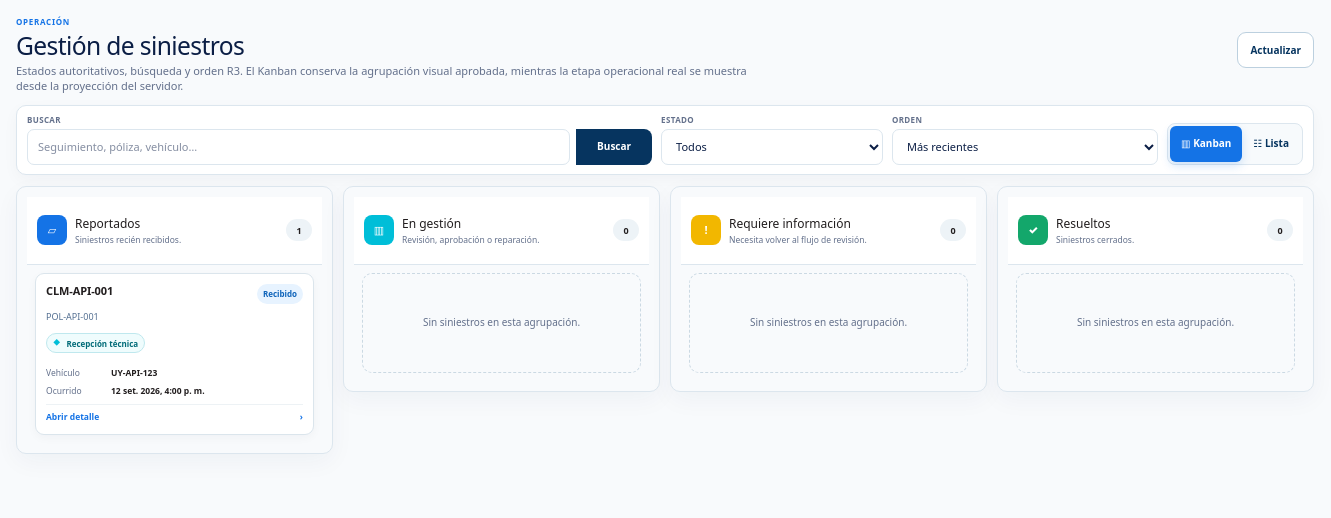
Test: OperatorClaimsPage R3 workspace › sends submitted search text to the API instead of filtering business records locally
Expected: the text "CLM-API-001" is shown, [46, 284, 113, 298]
Type "POL-API-001" into the search field labelled "Buscar" at coordinates (299, 147), box [27, 129, 570, 165]
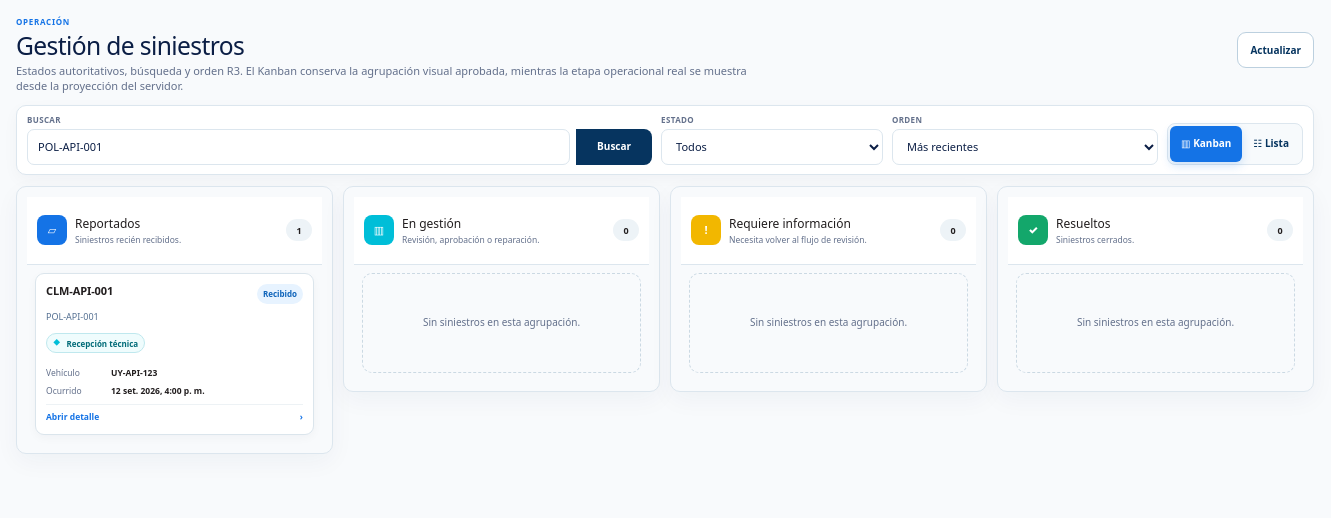
Click the button "Buscar" at coordinates (614, 147), box [576, 129, 652, 165]
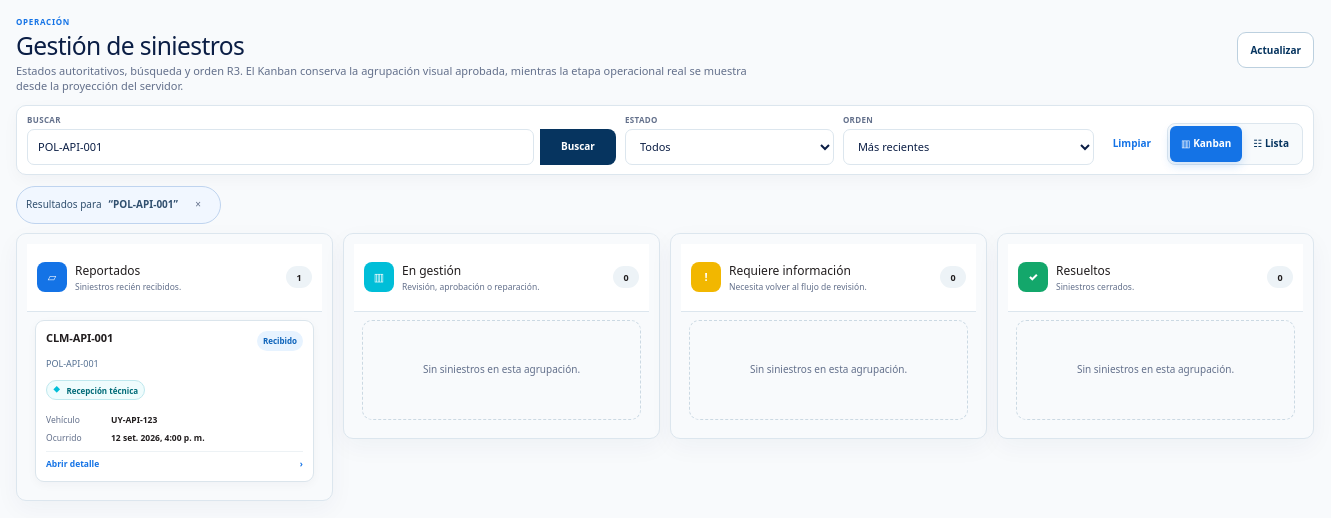
Result: the text "Resultados para “POL-API-001” ×" is shown at [16, 186, 221, 224]
